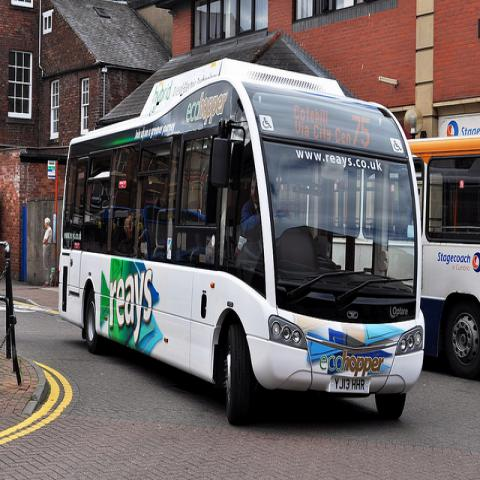bus: (57, 29, 428, 429), (407, 133, 479, 376)
